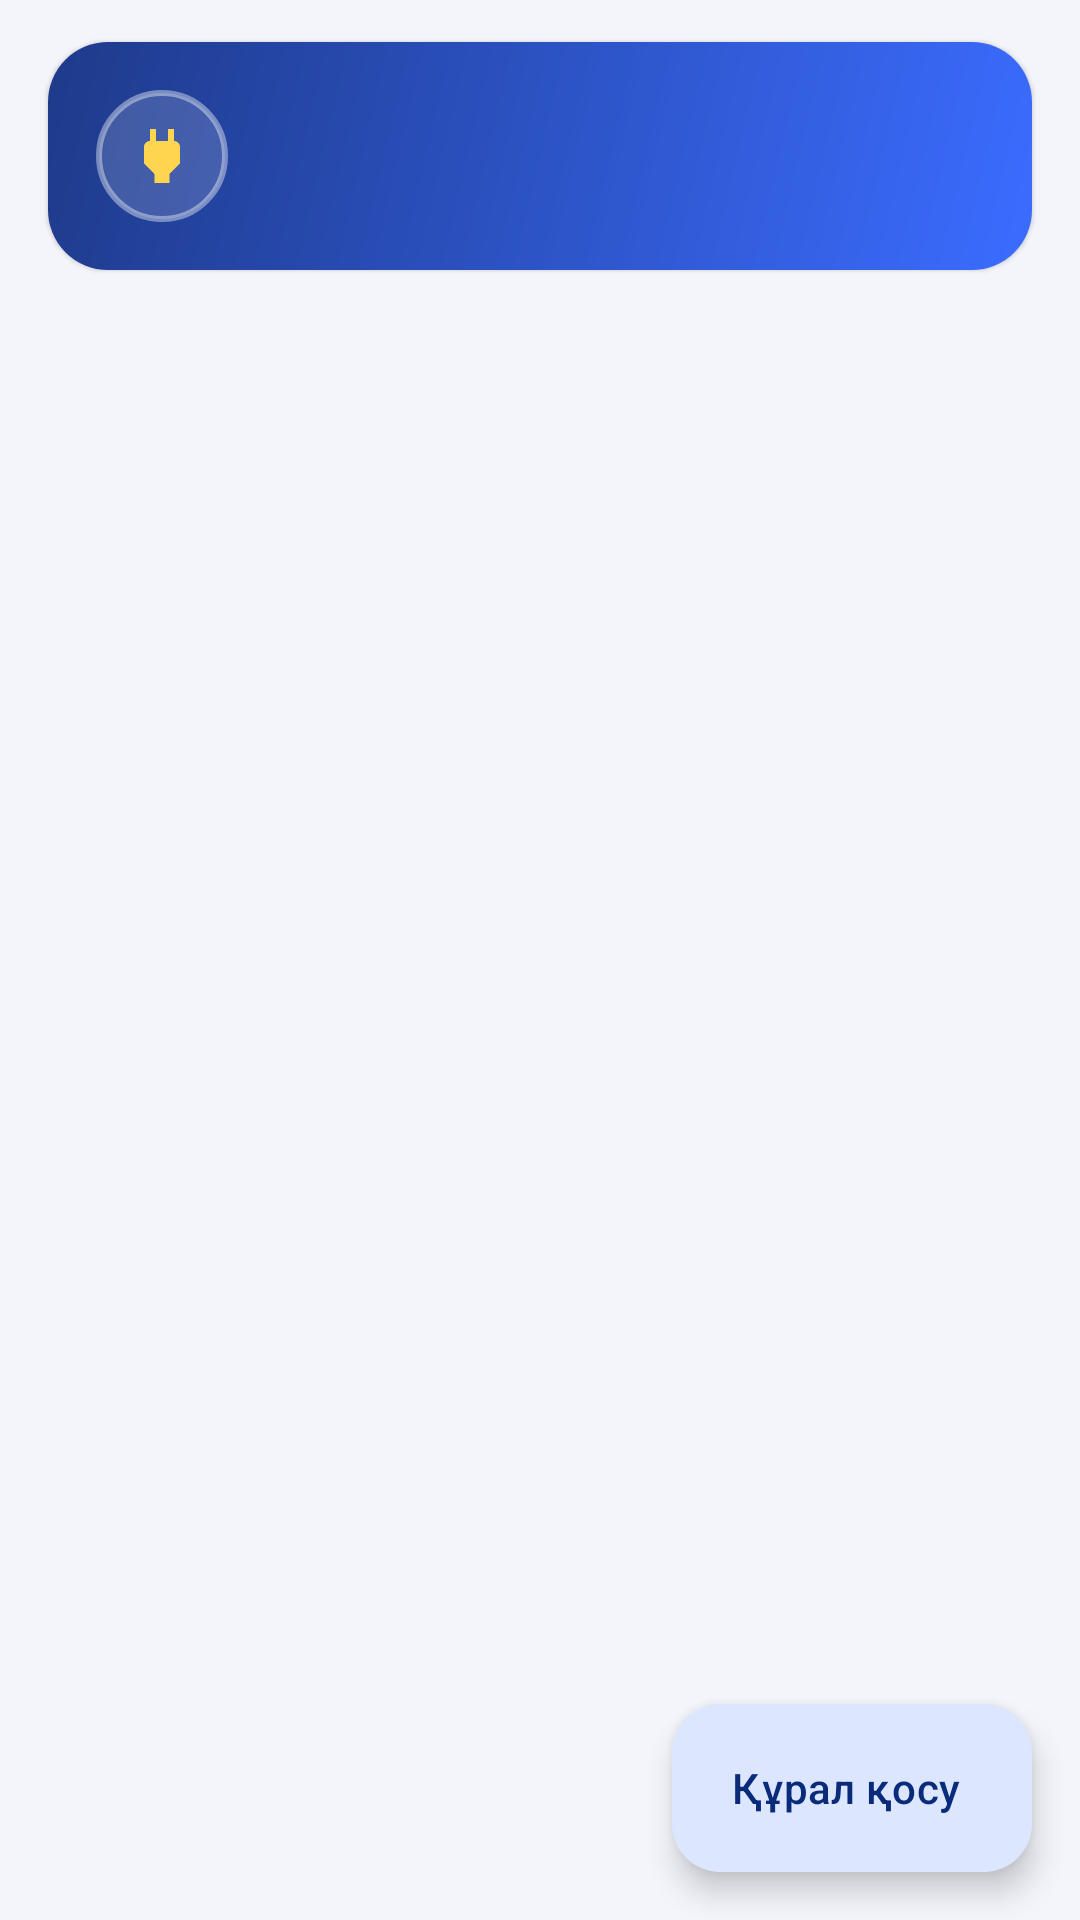

Icons on this 1080px×1920px Android screen, each with the point to tap as point (x, y):
plug: point (162, 156)
